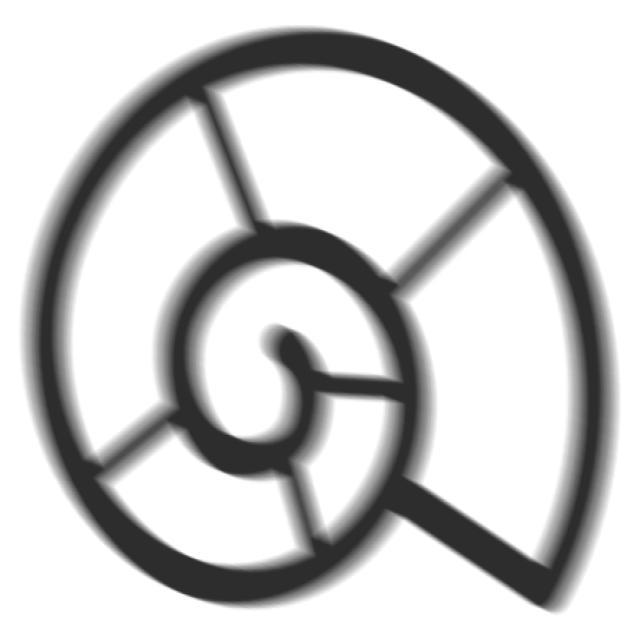fossil: (10, 15, 628, 627)
